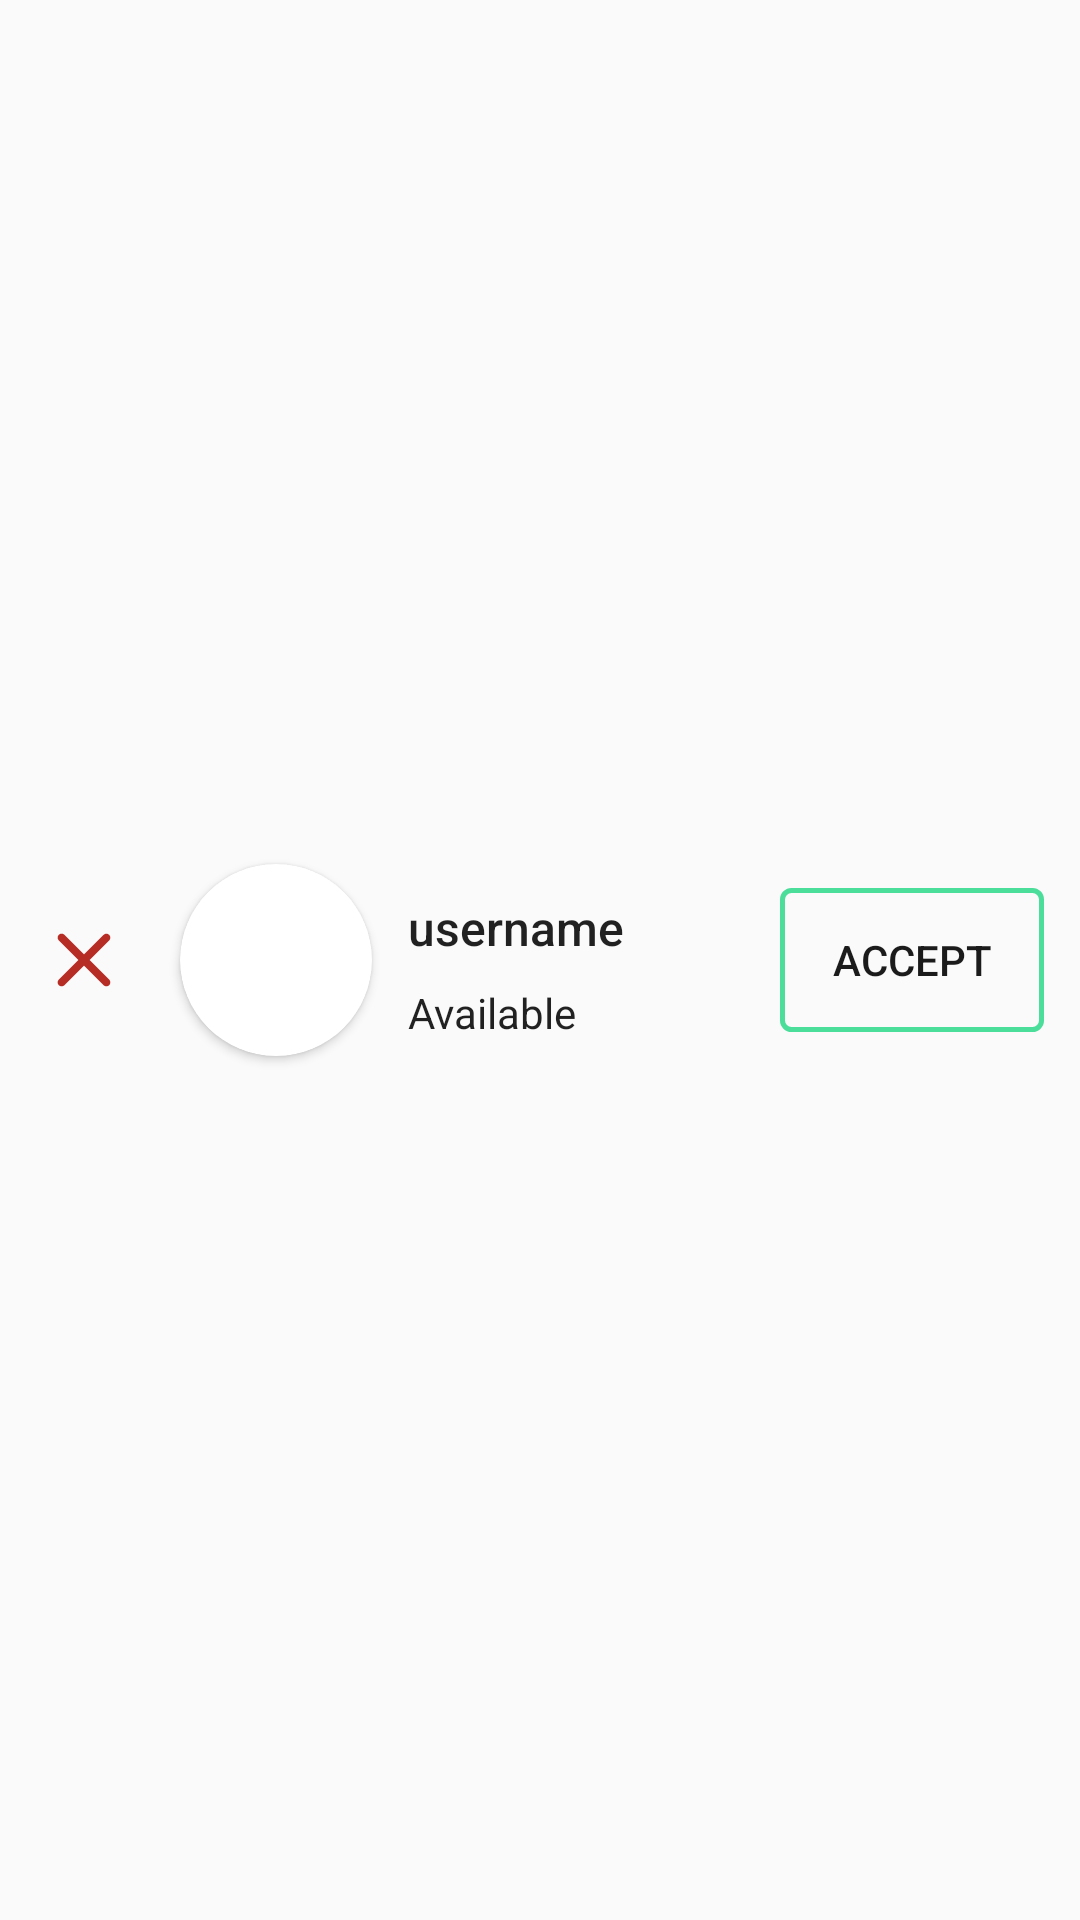

Where icons sit on this 1080 x 1920 app screen, as BBox(x1, y1, x2, y2):
clear: BBox(57, 933, 111, 987)
